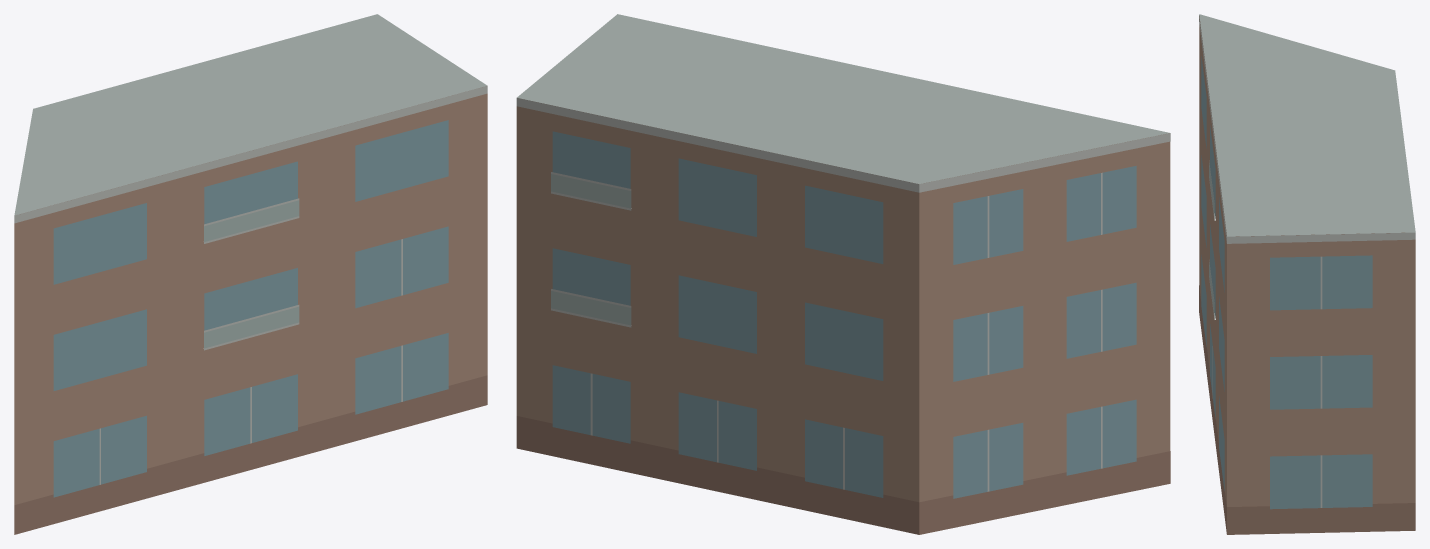
File: residential-44459ef8-09a8-4606-8196-9891b308c7bb.glb
3 renders of one model, left to right at view 1: azimuth 30°, elevation 25°; view 2: azimuth 150°, elevation 25°; view 3: azimuth 270°, elevation 25°, orthographic. The views are drawn at different scales.
Parts seen in each view (by area): view 1: residential-44459ef8-09a8-4606-8196-9891b308c7bb.tmp; view 2: residential-44459ef8-09a8-4606-8196-9891b308c7bb.tmp; view 3: residential-44459ef8-09a8-4606-8196-9891b308c7bb.tmp.
Boxes of the visible parts, <box> form: residential-44459ef8-09a8-4606-8196-9891b308c7bb.tmp: <box>14,14,487,534</box>; residential-44459ef8-09a8-4606-8196-9891b308c7bb.tmp: <box>516,14,1170,534</box>; residential-44459ef8-09a8-4606-8196-9891b308c7bb.tmp: <box>1199,14,1415,534</box>.
Size of the model in its own units: 16.02 by 10 by 6.59.
